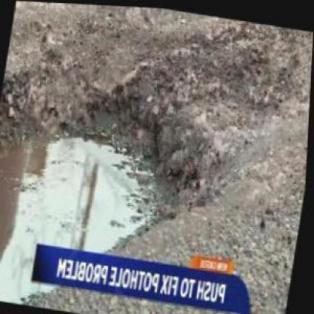Hueco: (0, 45, 245, 312)
